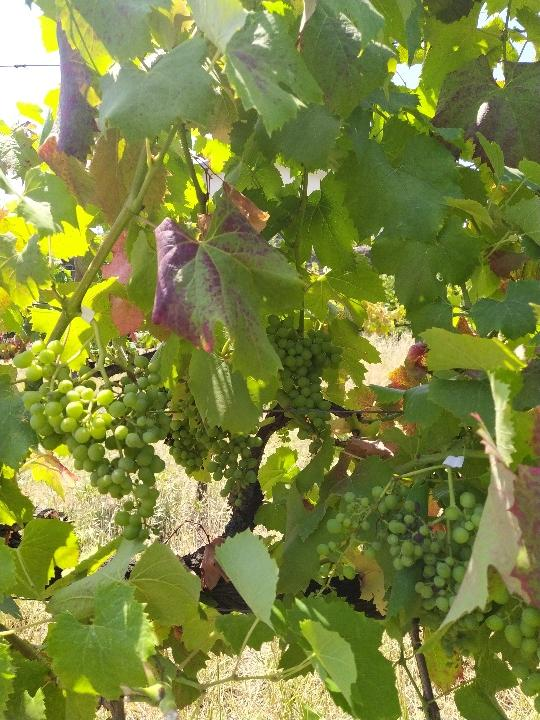grape: (307, 484, 536, 667), (10, 339, 172, 543), (260, 313, 342, 449)
